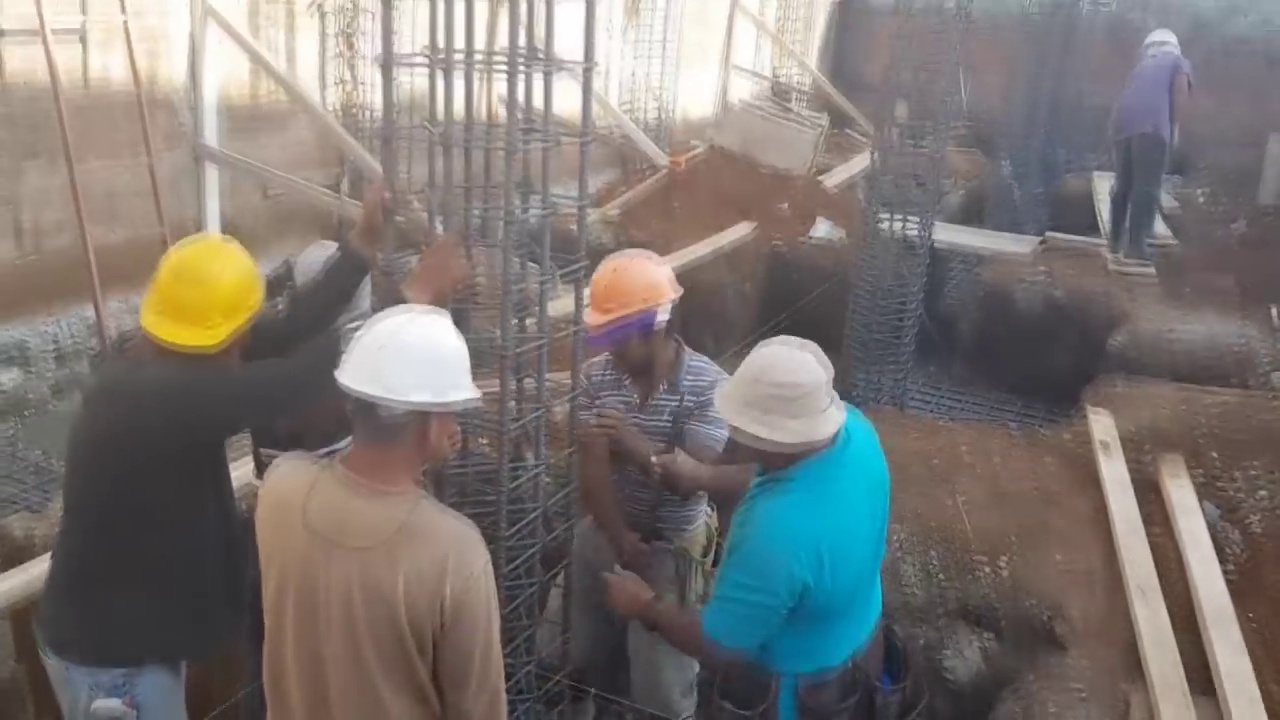helmet: (338, 306, 482, 427), (134, 234, 272, 350), (583, 250, 681, 339), (1139, 27, 1181, 50)
helmet-off: (701, 338, 856, 486)
helmet-on: (330, 304, 484, 495), (104, 228, 272, 395), (580, 249, 694, 395), (1140, 27, 1181, 66)
person: (26, 179, 470, 719), (597, 335, 894, 717), (258, 299, 510, 718), (537, 248, 733, 718), (1102, 17, 1198, 268)
